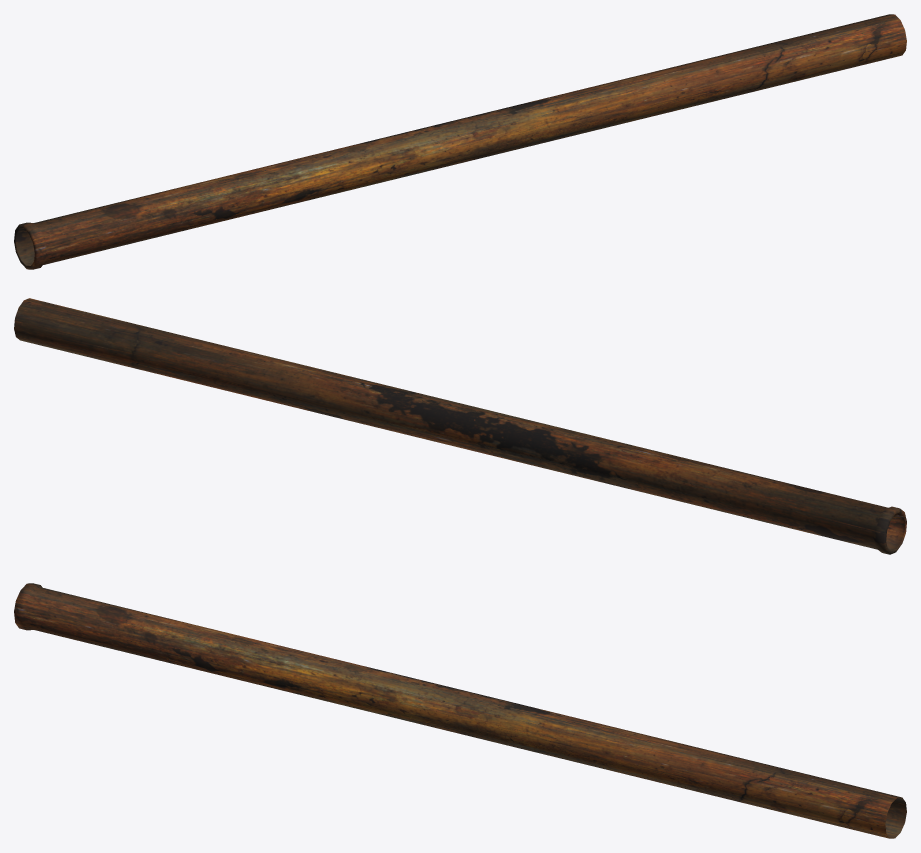
Rendered from Pipe.fbx.
3 views of the same model, one above another, from view 1: azimuth 30°, elevation 25°; view 2: azimuth 150°, elevation 25°; view 3: azimuth 330°, elevation 25° (orthographic).
Visible parts, largest first — view 1: Pipe; view 2: Pipe; view 3: Pipe.
Part boxes in pixels (<box>): Pipe: <box>14,14,906,269</box>; Pipe: <box>14,298,906,554</box>; Pipe: <box>14,583,906,838</box>.
Bounding box in the file's own units: 500 × 23.5 × 23.5.
